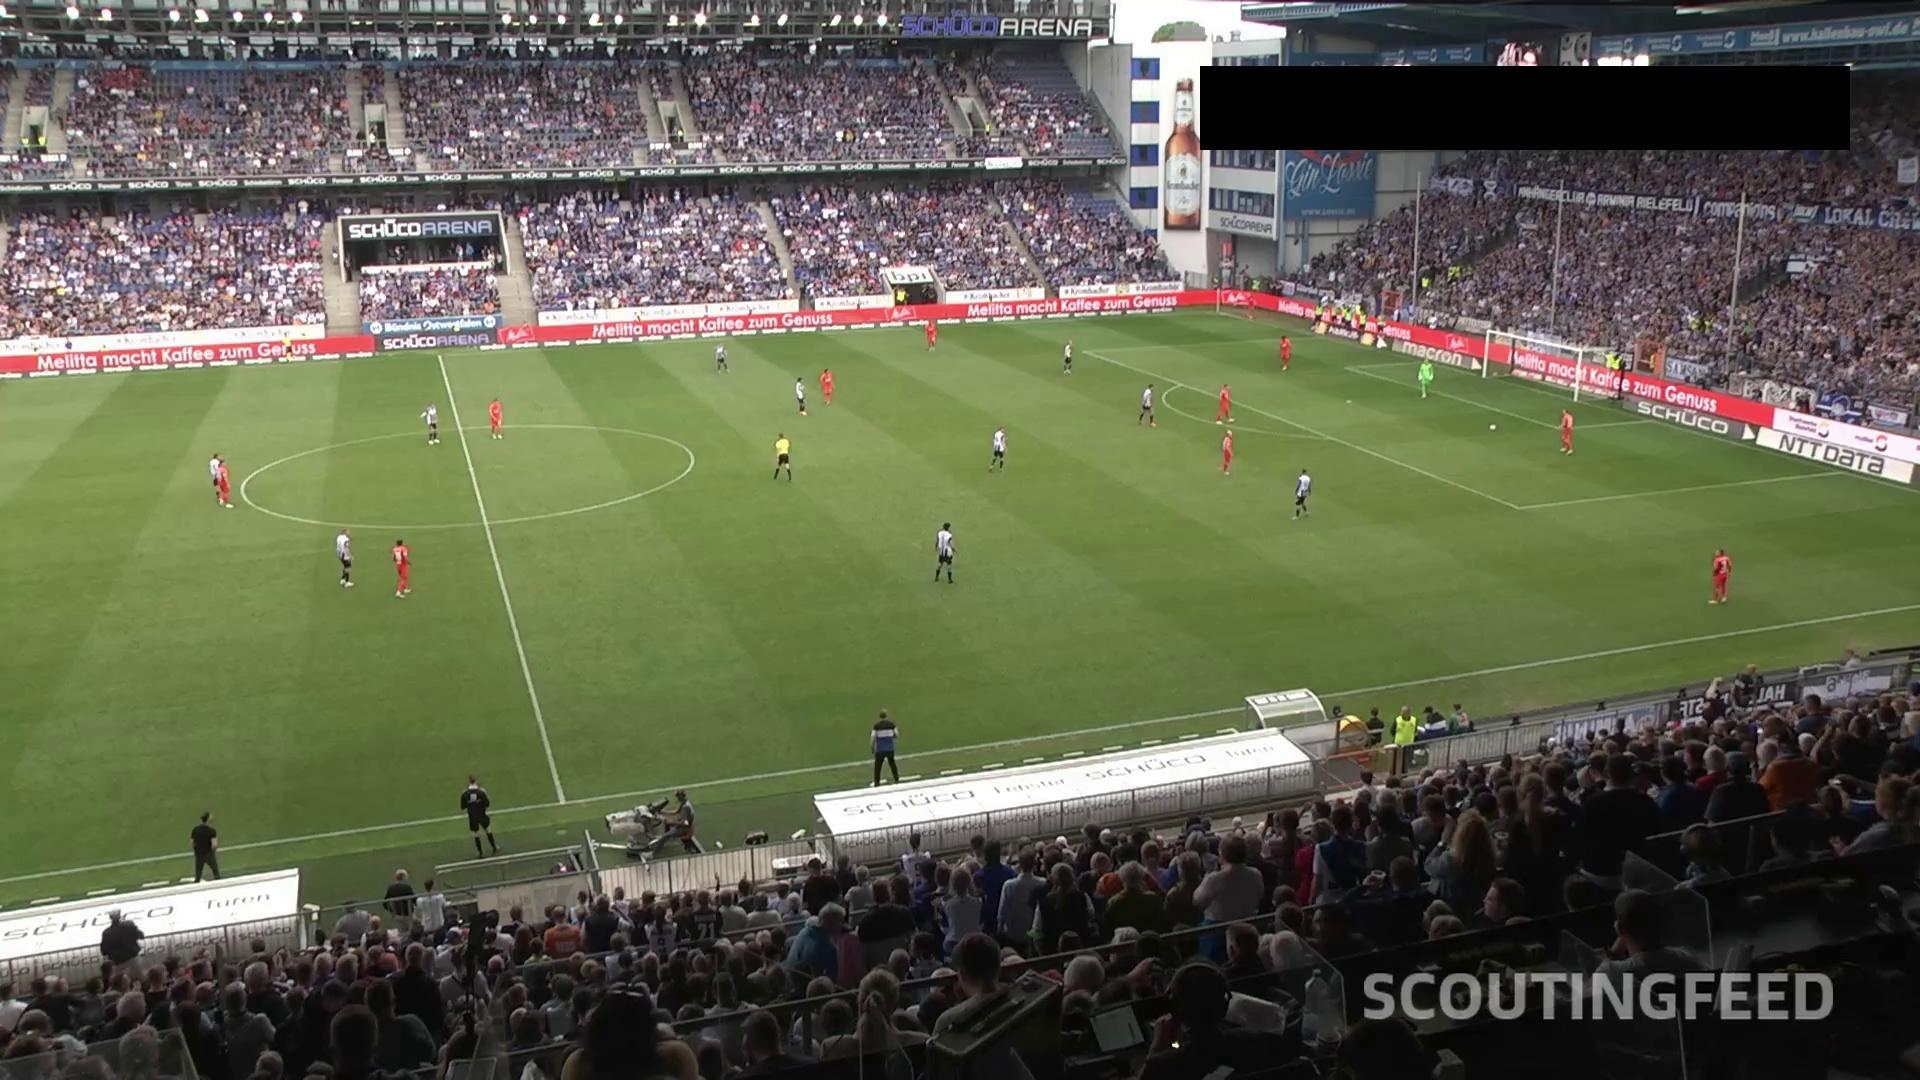Location-of-ball: (1474, 418, 1505, 440)
